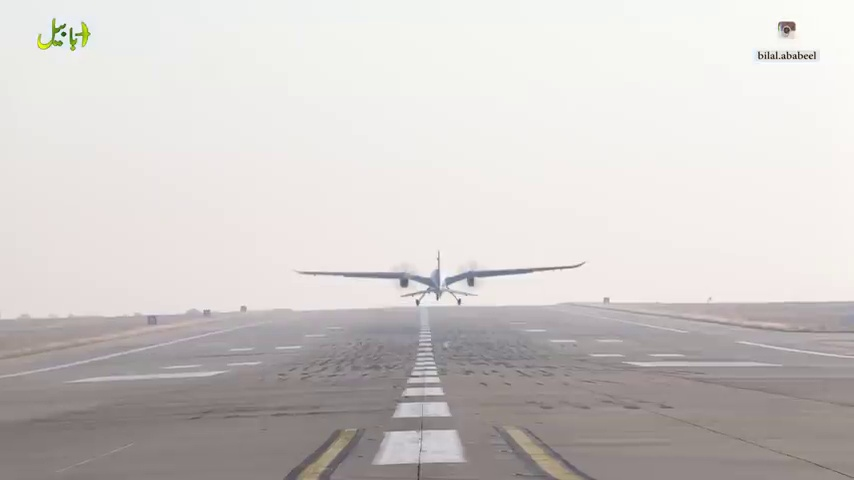military drone: (294, 251, 586, 305)
